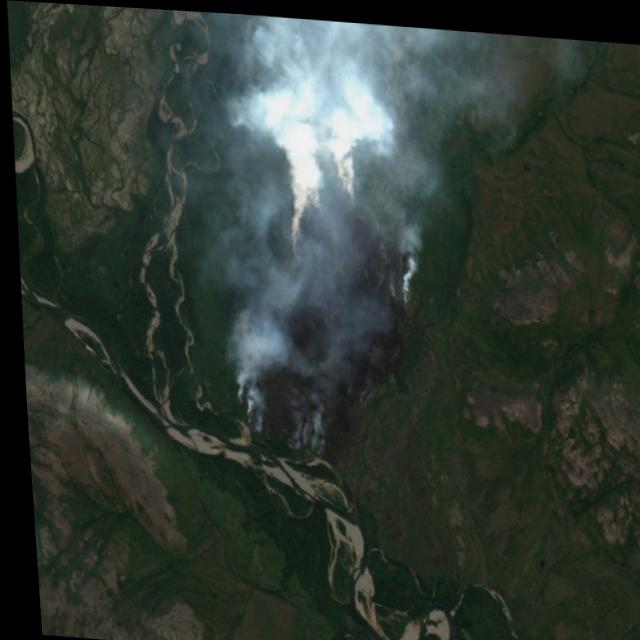fire: (212, 149, 429, 467)
